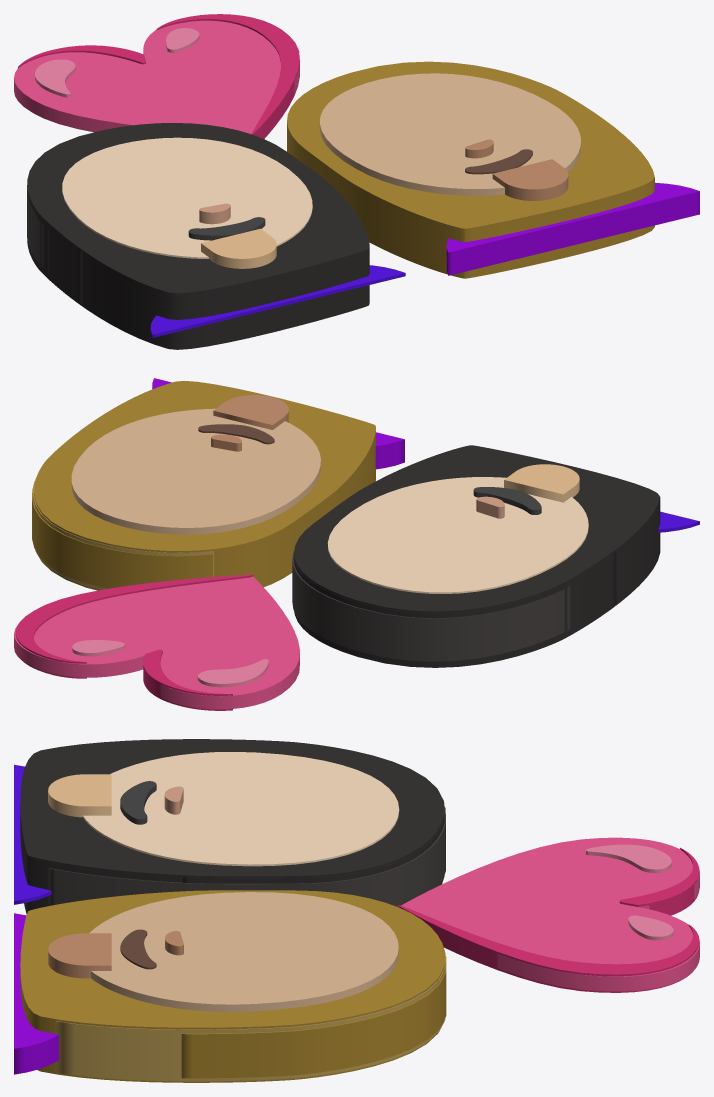
The model's file is emoji_u1f469_1f3fb_200d_2764_200d_1f469_1f3fc.glb.
3 views of the same model, one above another, from view 1: azimuth 30°, elevation 25°; view 2: azimuth 150°, elevation 25°; view 3: azimuth 270°, elevation 25° (orthographic). The views are drawn at different scales.
Parts seen in each view (by area): view 1: emoji_u1f469_1f3fb_200d_2764_200d_1f469_1f3fc; view 2: emoji_u1f469_1f3fb_200d_2764_200d_1f469_1f3fc; view 3: emoji_u1f469_1f3fb_200d_2764_200d_1f469_1f3fc.
Part boxes in pixels (x1=…): emoji_u1f469_1f3fb_200d_2764_200d_1f469_1f3fc: x1=14, y1=14, x2=699, y2=349; emoji_u1f469_1f3fb_200d_2764_200d_1f469_1f3fc: x1=14, y1=378, x2=699, y2=710; emoji_u1f469_1f3fb_200d_2764_200d_1f469_1f3fc: x1=14, y1=739, x2=699, y2=1082.
Bounding box in the file's own units: 0.0345 × 0.005 × 0.0338.
